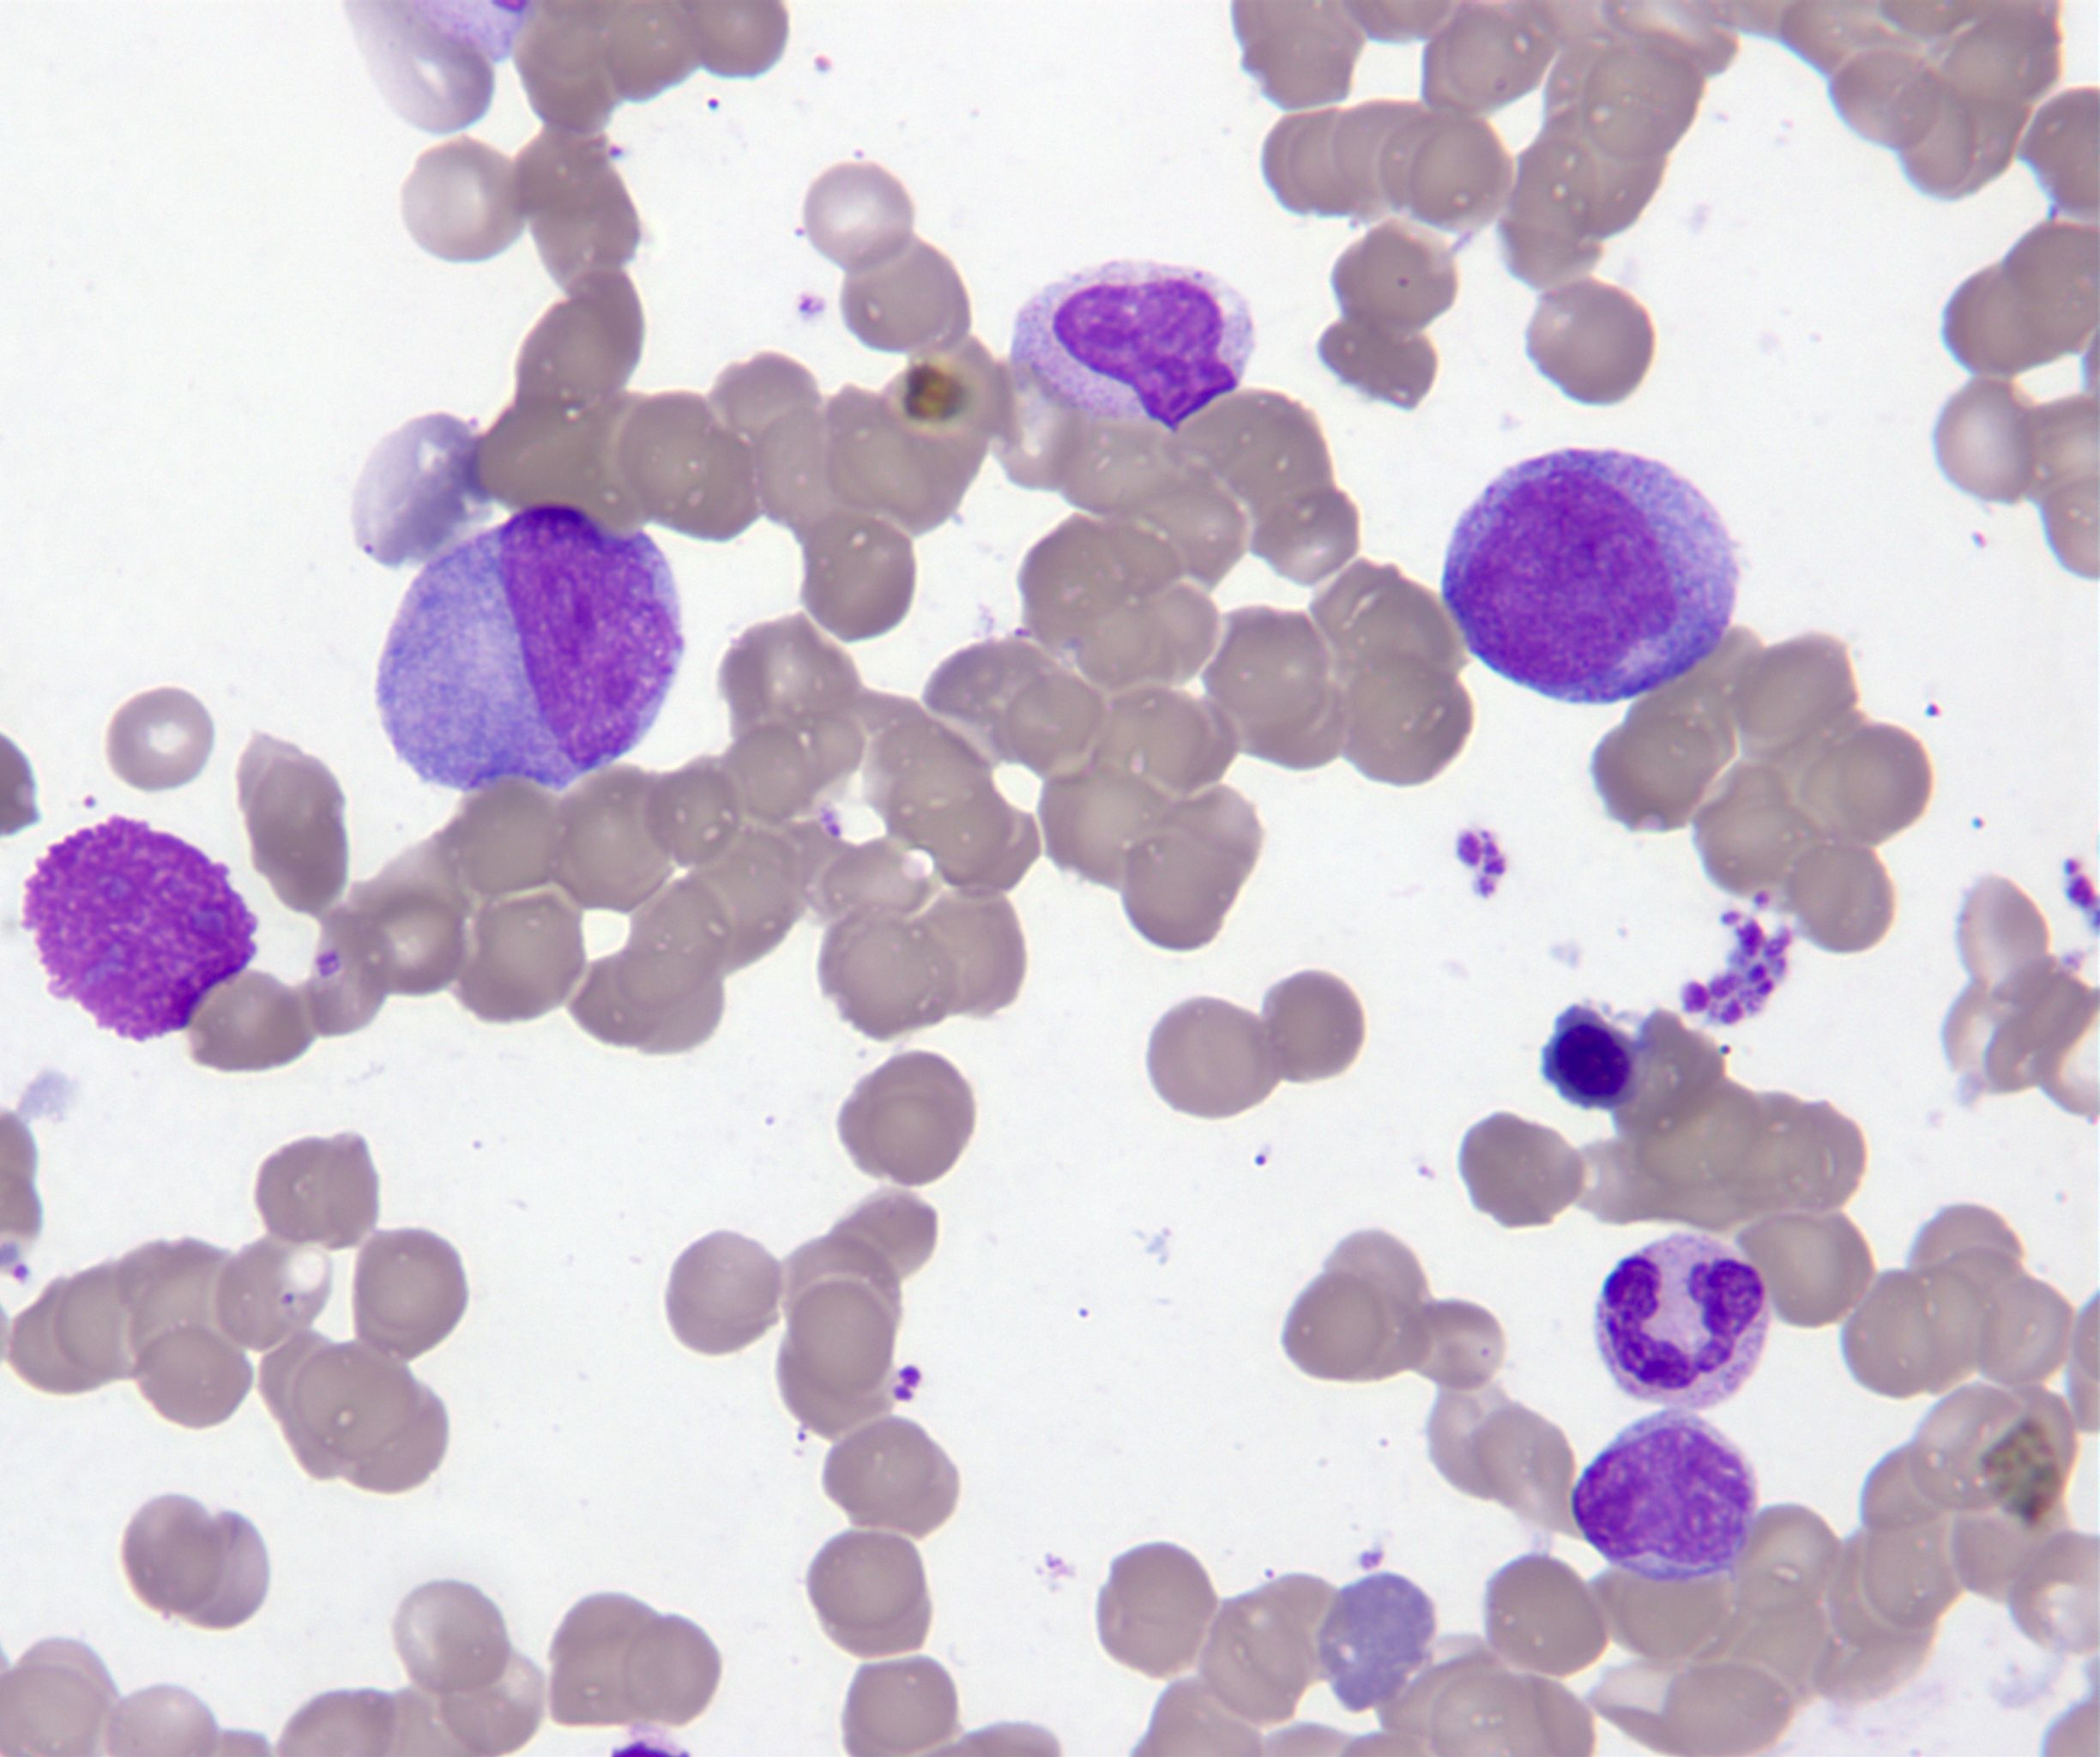24: (1535, 1003, 1645, 1111)
3: (373, 499, 691, 797), (1439, 441, 1744, 710)
4: (1013, 250, 1259, 440), (1568, 1413, 1760, 1584)
5: (1589, 1227, 1774, 1415)
x: (19, 810, 262, 1049)
